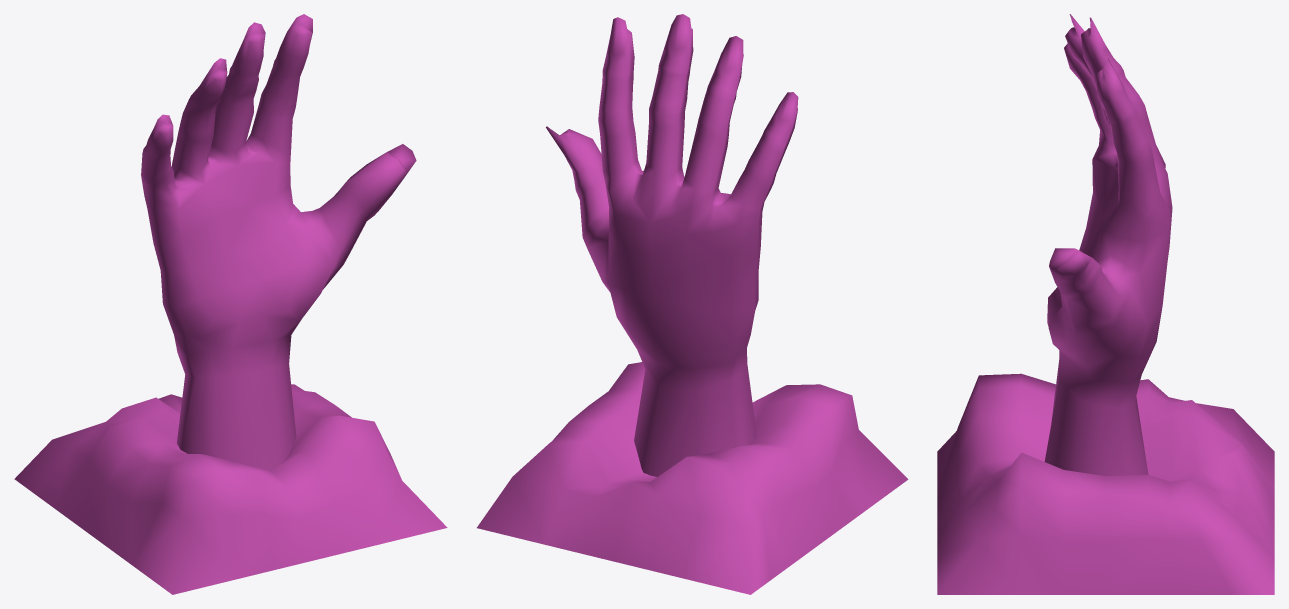
The model's file is main qui sort de la terre_low.fbx.
The picture shows the model from 3 angles, left to right: view 1: azimuth 30°, elevation 25°; view 2: azimuth 150°, elevation 25°; view 3: azimuth 270°, elevation 25°; orthographic projection. The views are drawn at different scales.
Parts seen in each view (by area): view 1: main qui sort de la terre_low; view 2: main qui sort de la terre_low; view 3: main qui sort de la terre_low.
Part boxes in pixels (x1,y1,x2,y2): main qui sort de la terre_low: (14, 14, 447, 594); main qui sort de la terre_low: (477, 14, 908, 594); main qui sort de la terre_low: (937, 14, 1274, 594).
Size of the model in its own units: 22.92 by 20.81 by 34.98.
